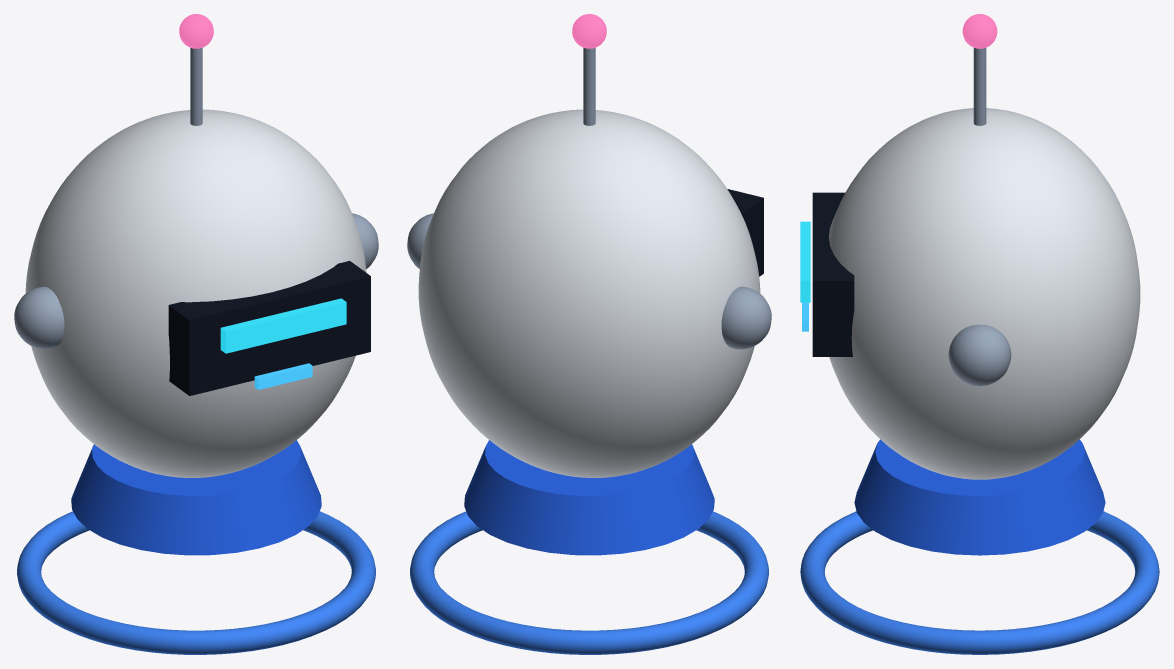
Rendered from robot-avatar.glb.
3 renders of one model, left to right at view 1: azimuth 30°, elevation 25°; view 2: azimuth 150°, elevation 25°; view 3: azimuth 270°, elevation 25°, orthographic.
Bounding box in the file's own units: 1.18 × 1.8 × 1.03.
